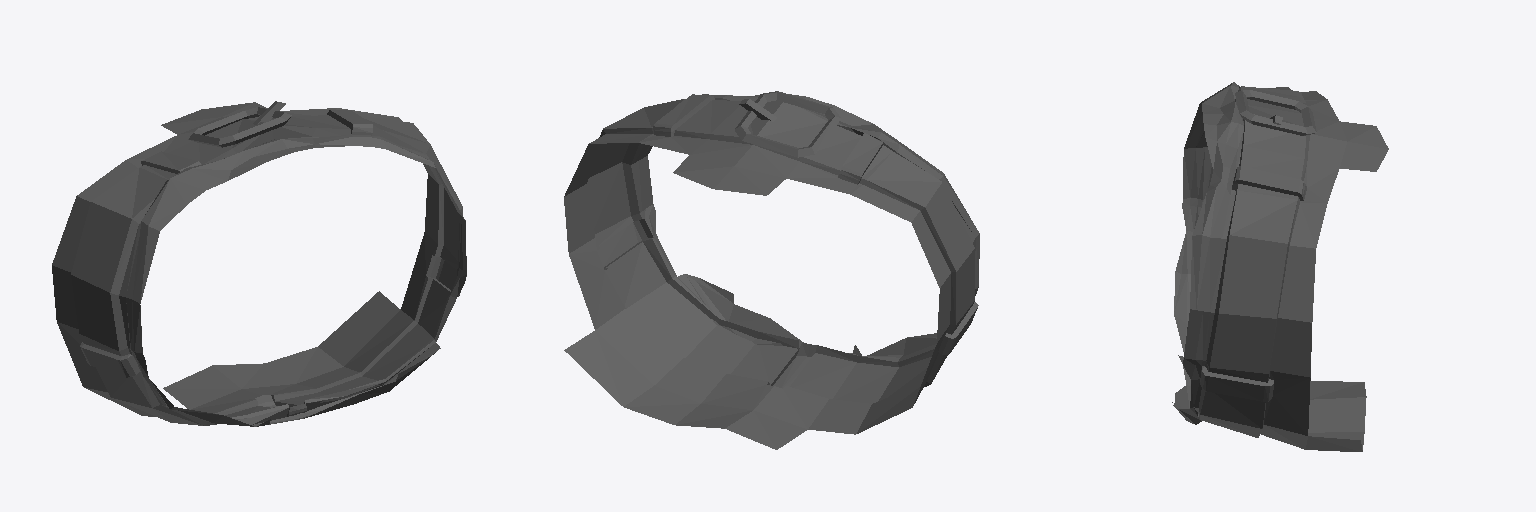
Rendered from pelvis.obj.
3 views of the same model, side by side, from view 1: azimuth 30°, elevation 25°; view 2: azimuth 150°, elevation 25°; view 3: azimuth 270°, elevation 25° (orthographic).
Visible parts, largest first — view 1: zoey_color_bmp_015_zoey_color_bmp.015; view 2: zoey_color_bmp_015_zoey_color_bmp.015; view 3: zoey_color_bmp_015_zoey_color_bmp.015.
Boxes of the visible parts, box(x1,y1,x2,y2) form: zoey_color_bmp_015_zoey_color_bmp.015: box(52, 101, 466, 426); zoey_color_bmp_015_zoey_color_bmp.015: box(564, 91, 979, 449); zoey_color_bmp_015_zoey_color_bmp.015: box(1172, 82, 1388, 451).
Size of the model in its own units: 0.2508 by 0.1923 by 0.126.